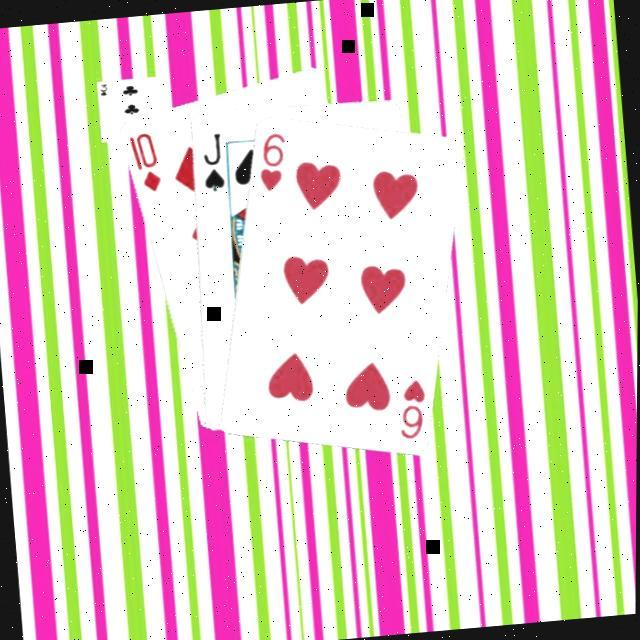10D: (121, 126, 162, 194)
6H: (390, 373, 430, 440), (250, 126, 290, 192)
JS: (194, 127, 225, 193)
